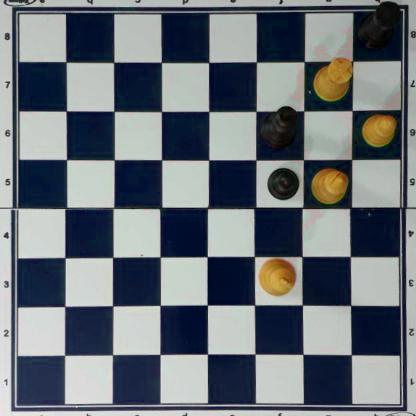black-king: (259, 107, 296, 149)
black-pawn: (266, 166, 299, 199)
black-rook: (356, 1, 400, 50)
white-bishop: (311, 166, 349, 204)
white-king: (256, 256, 297, 297)
white-pawn: (361, 112, 397, 148)
white-rook: (313, 56, 354, 101)
